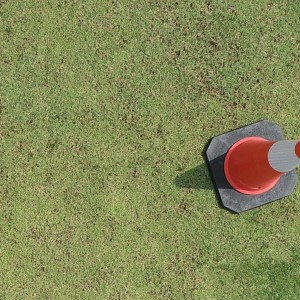traffic cone: (205, 119, 300, 215)
